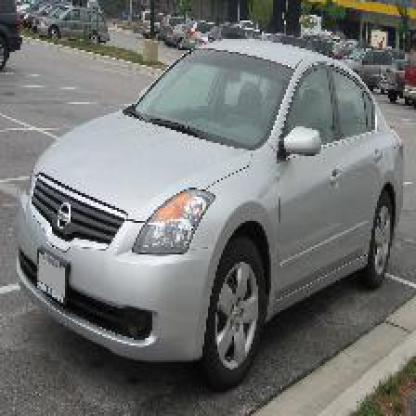not_emergency: (15, 39, 414, 353)
